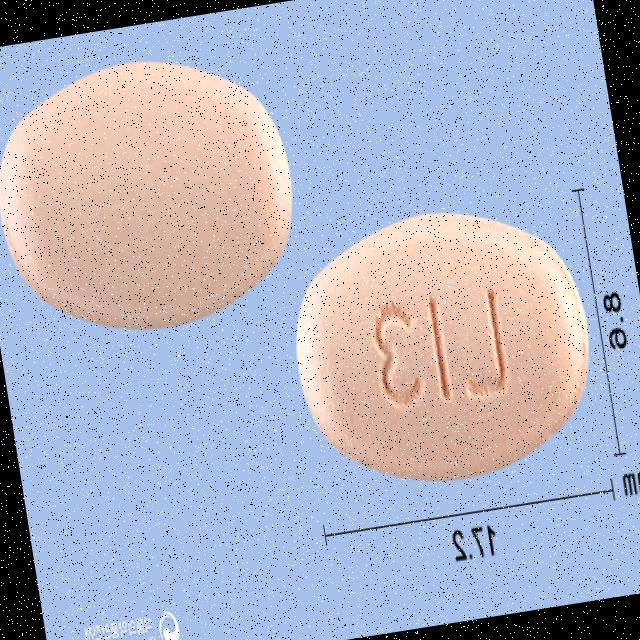Levoable: (277, 192, 607, 500), (0, 38, 312, 349)
